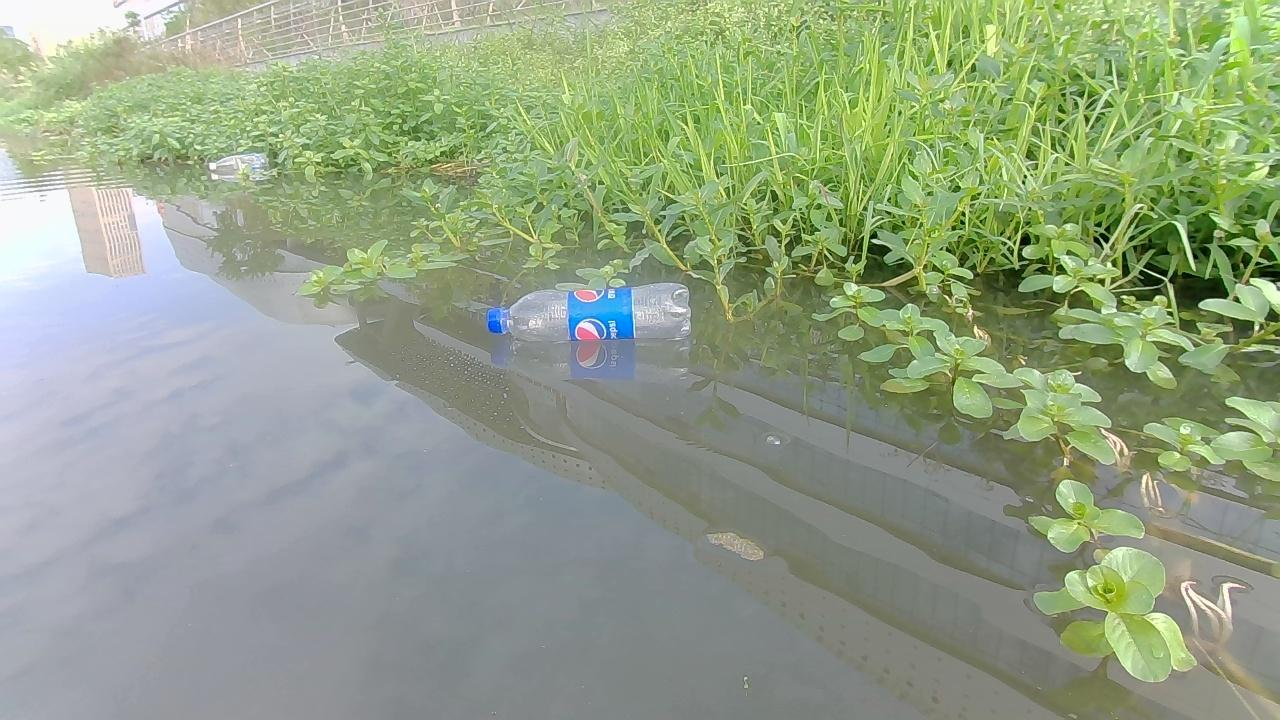bottle: (489, 281, 694, 342), (207, 152, 264, 176)
